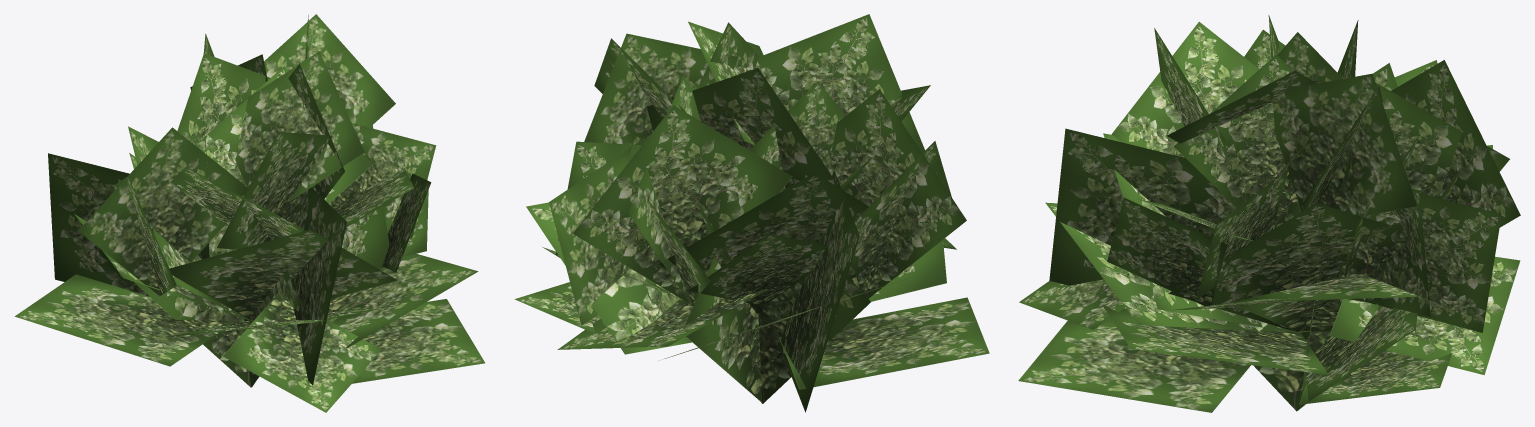
The model's file is bush08_lod02.FBX.
3 renders of one model, left to right at view 1: azimuth 30°, elevation 25°; view 2: azimuth 150°, elevation 25°; view 3: azimuth 270°, elevation 25°, orthographic. The views are drawn at different scales.
Visible parts, largest first — view 1: bush08_lod02; view 2: bush08_lod02; view 3: bush08_lod02.
Part boxes in pixels (x1=…): bush08_lod02: x1=14, y1=14, x2=484, y2=412; bush08_lod02: x1=514, y1=14, x2=989, y2=412; bush08_lod02: x1=1018, y1=15, x2=1520, y2=412.
Bounding box in the file's own units: 225 × 185 × 217.
Materials: 1 (1 with a texture image).
